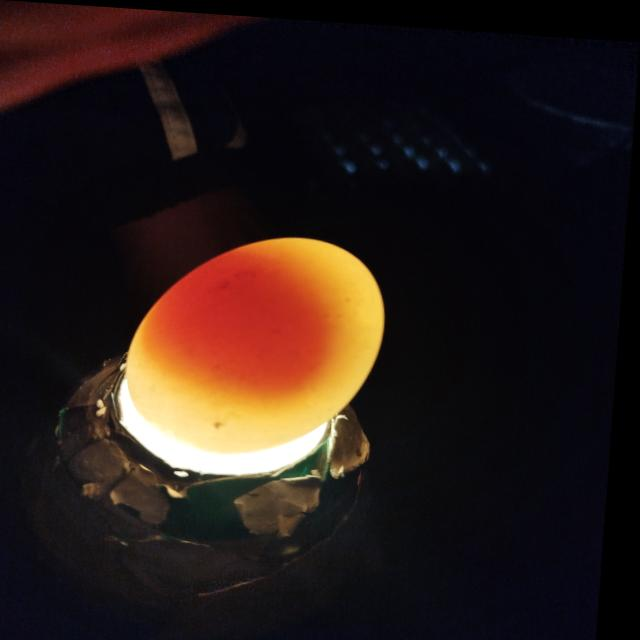Gema Quebrada: (159, 245, 340, 391)
